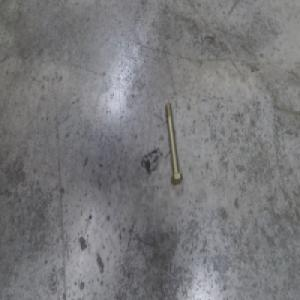Bolt: (165, 103, 184, 186)
